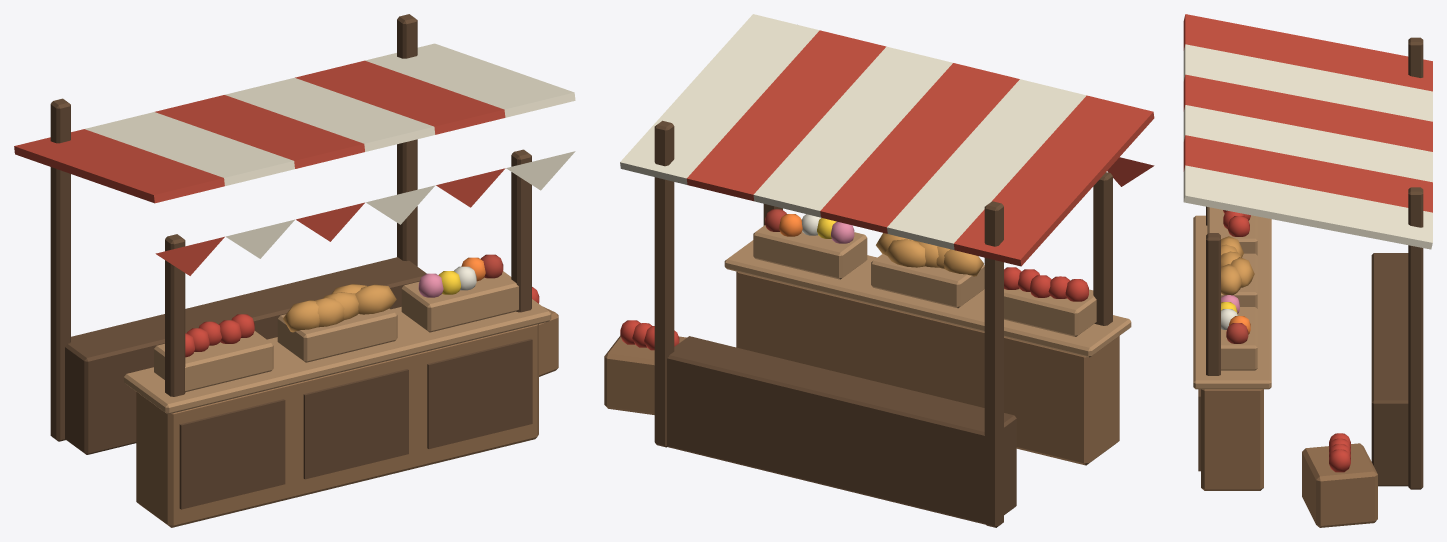
The model's file is plaza_stall.glb.
3 views of the same model, side by side, from view 1: azimuth 30°, elevation 25°; view 2: azimuth 150°, elevation 25°; view 3: azimuth 270°, elevation 25° (orthographic). The views are drawn at different scales.
Parts seen in each view (by area): view 1: LOD0; view 2: LOD0; view 3: LOD0.
Part boxes in pixels (left/top/right/bottom): LOD0: left=14, top=14, right=575, bottom=527; LOD0: left=604, top=14, right=1154, bottom=527; LOD0: left=1183, top=14, right=1432, bottom=527.
Bounding box in the file's own units: 3.89 × 2.69 × 1.97.
Materials: 1 (1 with a texture image).
